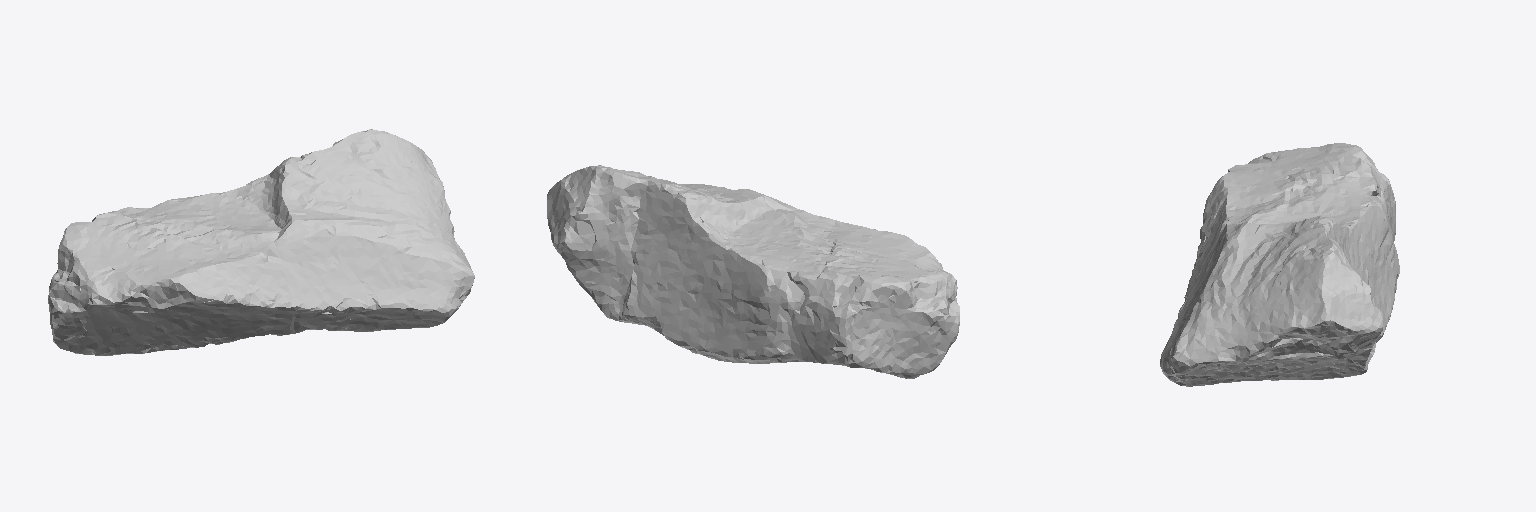
File: moon_rock.obj
3 renders of one model, left to right at view 1: azimuth 30°, elevation 25°; view 2: azimuth 150°, elevation 25°; view 3: azimuth 270°, elevation 25°, orthographic.
Parts seen in each view (by area): view 1: moon_rock_01_LOD0; view 2: moon_rock_01_LOD0; view 3: moon_rock_01_LOD0.
Boxes of the visible parts, box(x1,y1,x2,y2) form: moon_rock_01_LOD0: box(48, 129, 474, 355); moon_rock_01_LOD0: box(547, 165, 959, 378); moon_rock_01_LOD0: box(1160, 143, 1399, 386).
Bounding box in the file's own units: 0.2121 × 0.0751 × 0.1116.